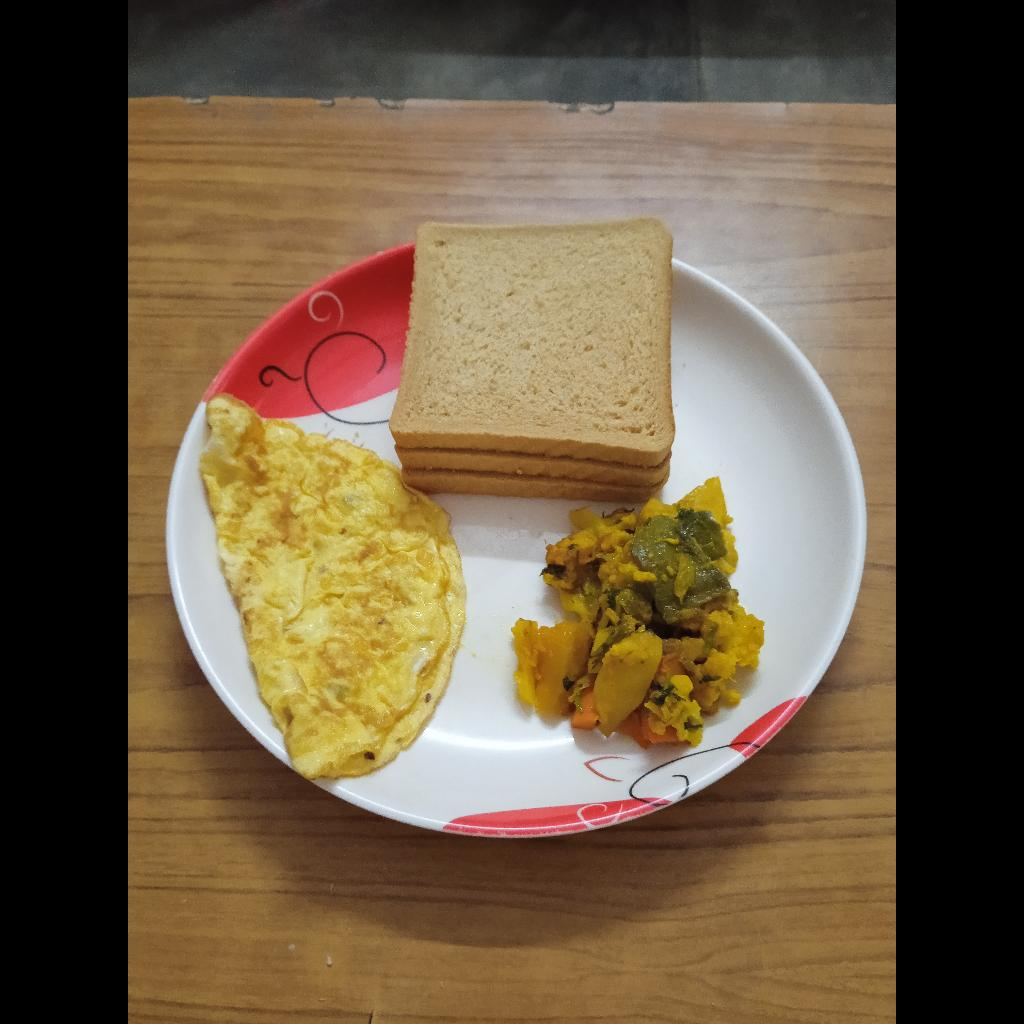bread: (391, 217, 676, 501)
egg-poached: (199, 392, 468, 781)
vegetable: (513, 476, 765, 754)
